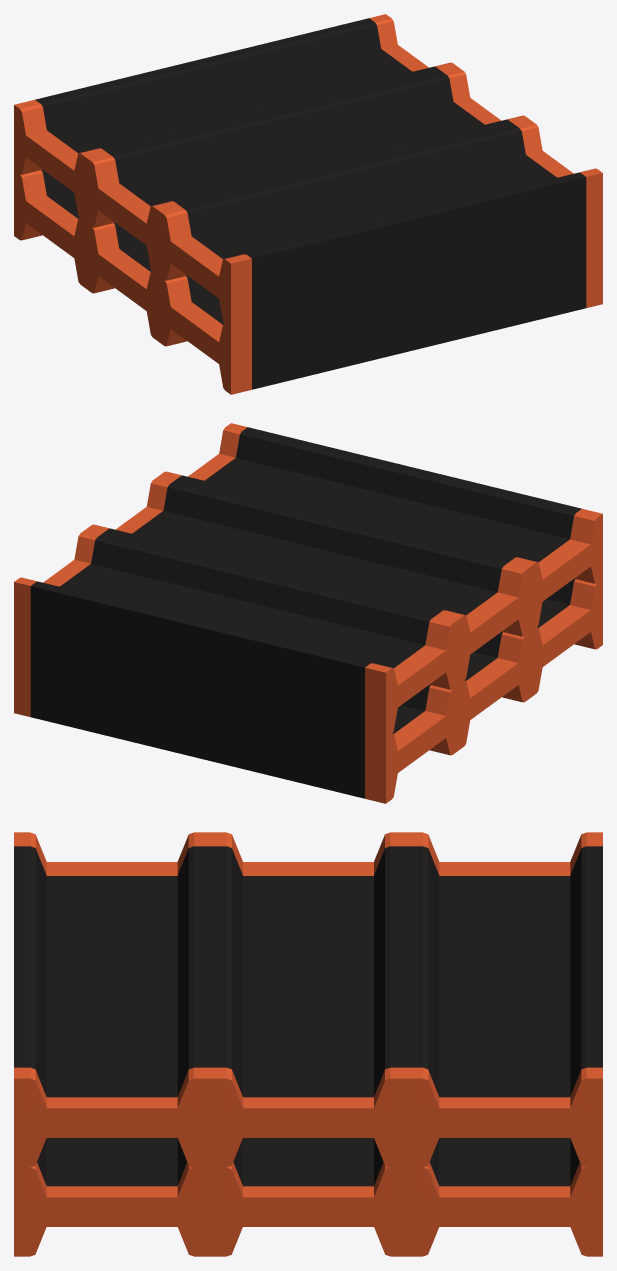
Rendered from steel.glb.
The picture shows the model from 3 angles, top to bottom: view 1: azimuth 30°, elevation 25°; view 2: azimuth 150°, elevation 25°; view 3: azimuth 270°, elevation 25°; orthographic projection. The views are drawn at different scales.
Parts seen in each view (by area): view 1: Cube; view 2: Cube; view 3: Cube.
Boxes of the visible parts, <box> form: Cube: <box>14,14,602,394</box>; Cube: <box>14,423,602,803</box>; Cube: <box>14,832,602,1256</box>.
Bounding box in the file's own units: 1.78 × 0.6 × 1.8.
